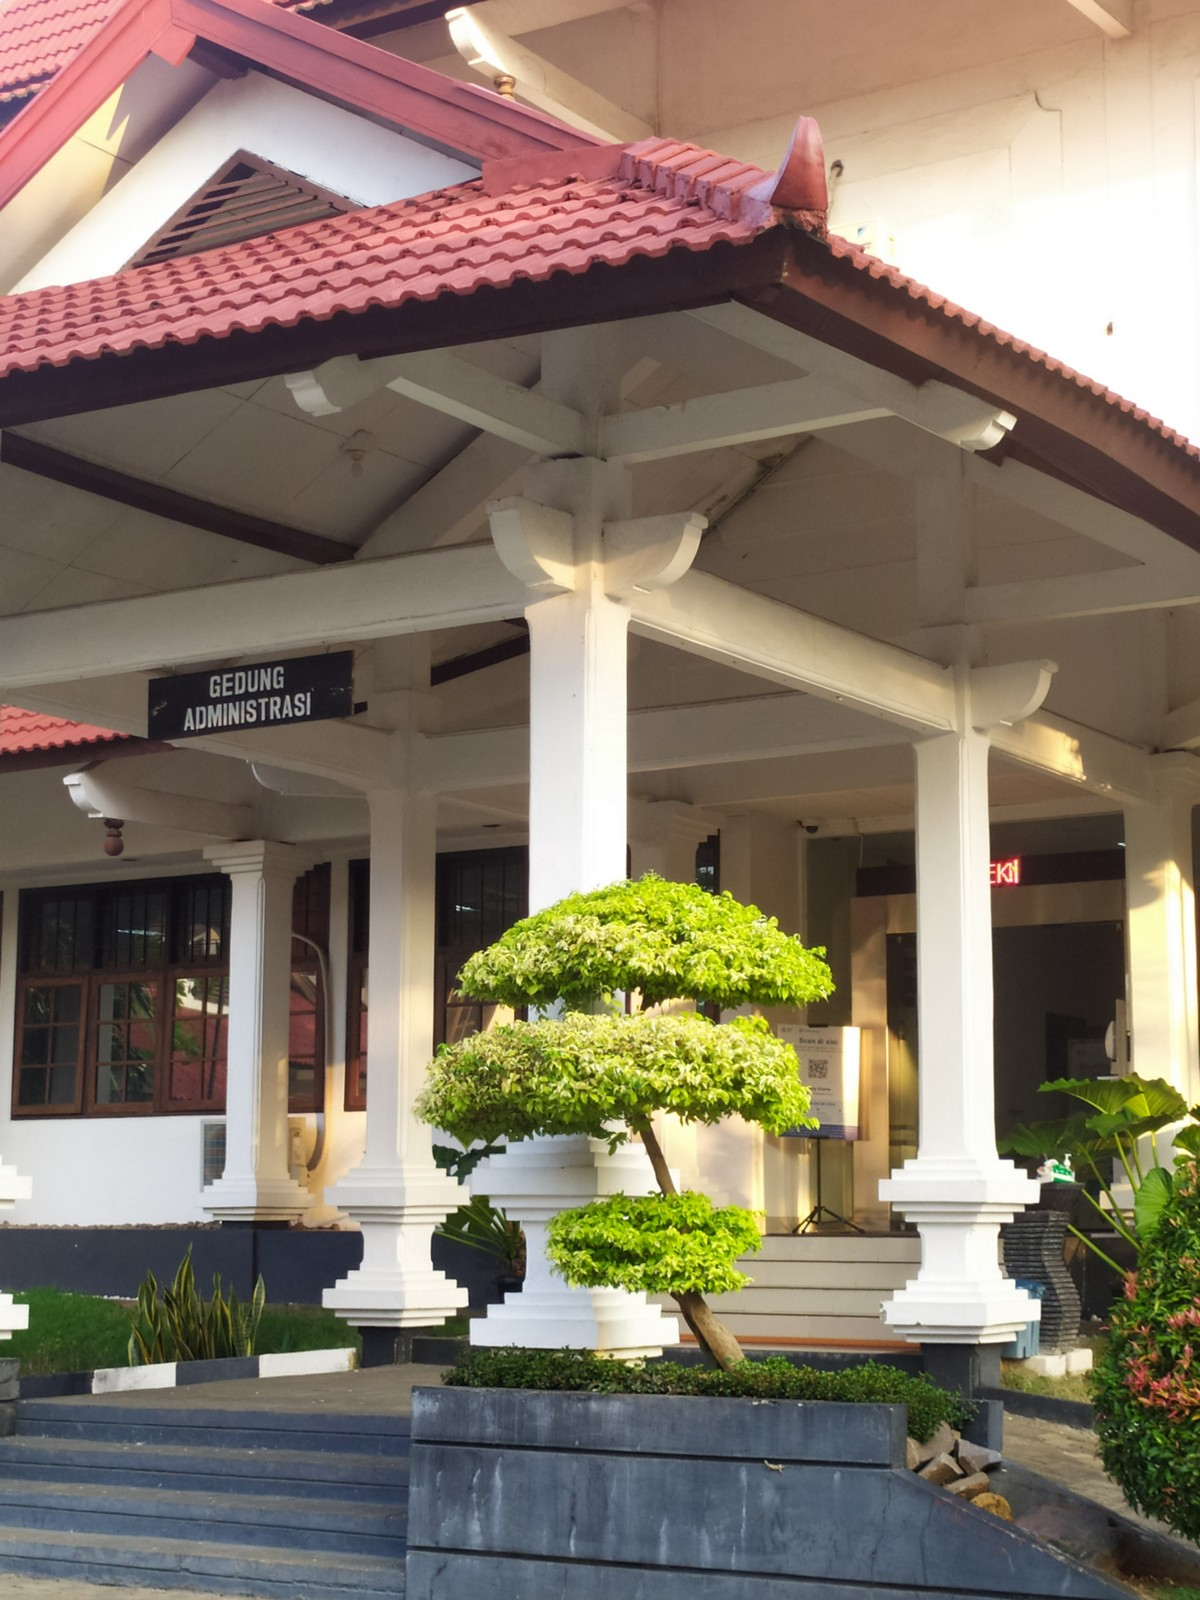concrete beam: (25, 559, 511, 684), (649, 574, 950, 729)
concrete column: (901, 719, 1017, 1170), (513, 572, 642, 901), (353, 784, 453, 1163), (216, 867, 301, 1193)
